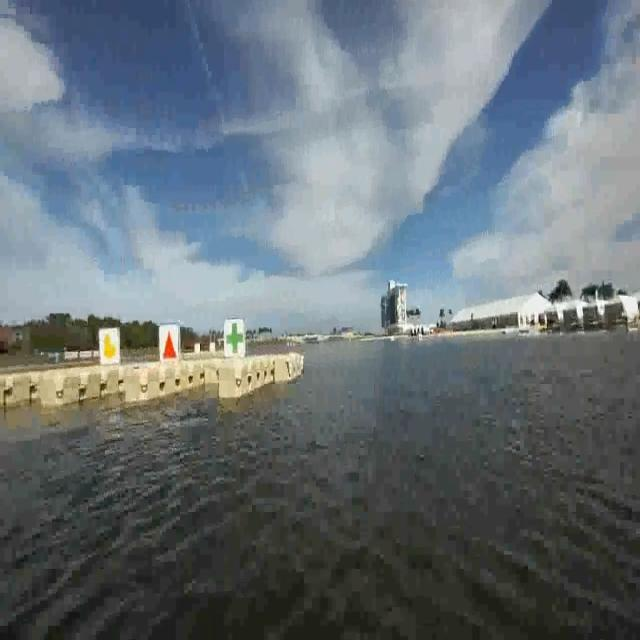blue-cross: (228, 317, 244, 355)
red-dot: (158, 324, 178, 361)
yellow-duck: (104, 330, 120, 358)
